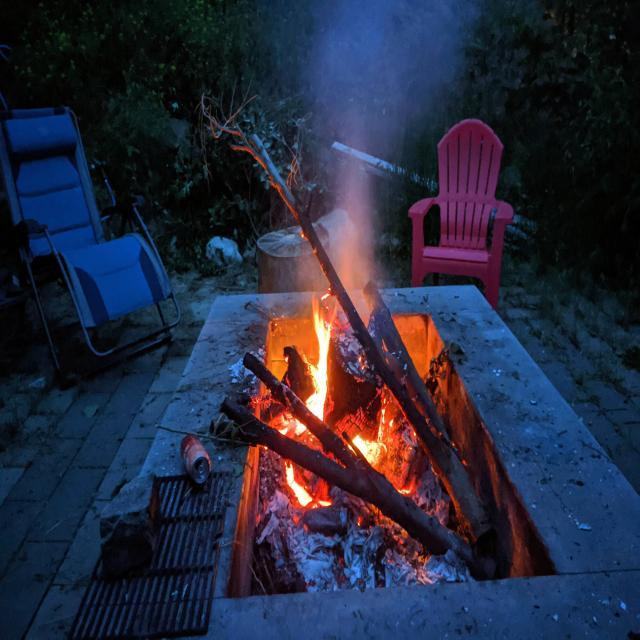Fire: (277, 308, 400, 520)
Smoke: (300, 0, 474, 272)
